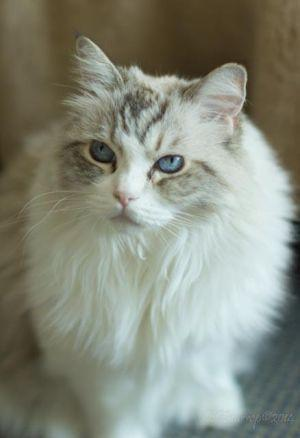ragdoll: (48, 28, 257, 265)
